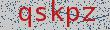k: (49, 1, 65, 27)
p: (65, 3, 80, 29)
q: (14, 5, 33, 29)
s: (33, 5, 49, 28)
z: (81, 4, 101, 26)
